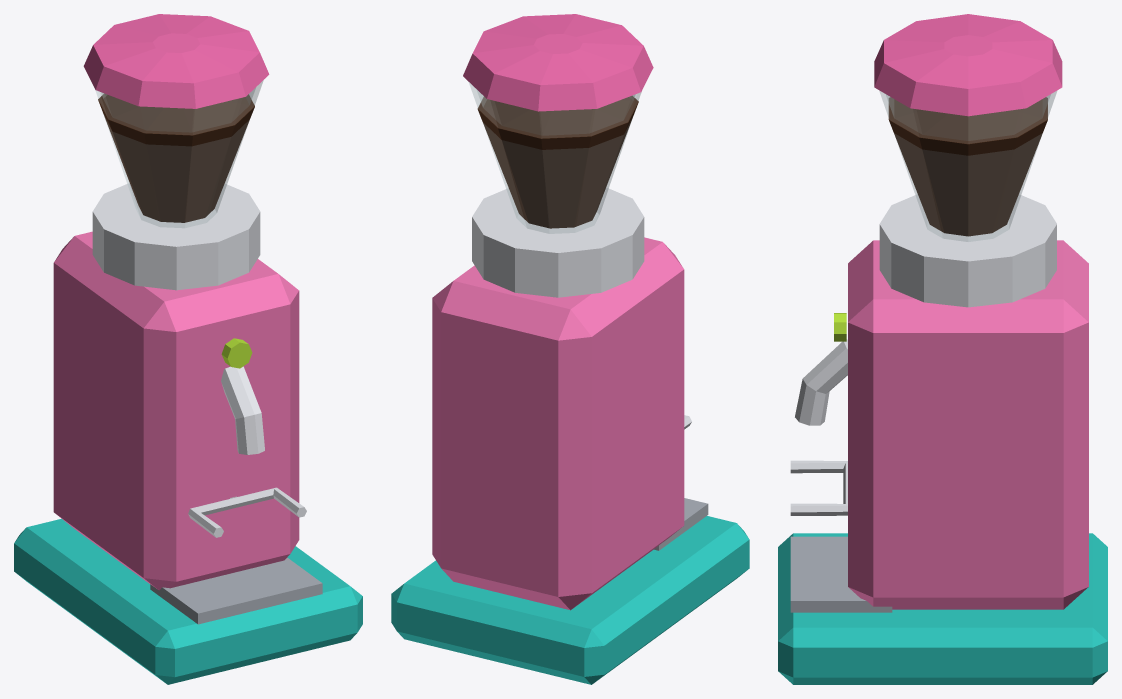
3 views of the same model, side by side, from view 1: azimuth 30°, elevation 25°; view 2: azimuth 150°, elevation 25°; view 3: azimuth 270°, elevation 25° (orthographic). The views are drawn at different scales.
Parts seen in each view (by area): view 1: body, base, hopper_lid, beans, grind_collar, hopper_glass, catch_tray, chute, fork, dose_button; view 2: body, base, hopper_lid, beans, grind_collar, hopper_glass, catch_tray; view 3: body, base, hopper_lid, beans, grind_collar, hopper_glass, catch_tray, chute, fork.
Boxes of the visible parts, x1,y1,x2,y2 form: body: [53, 231, 299, 590]; base: [14, 518, 362, 684]; hopper_lid: [83, 14, 269, 108]; beans: [98, 93, 254, 222]; grind_collar: [92, 183, 260, 290]; hopper_glass: [95, 80, 263, 227]; catch_tray: [150, 557, 322, 624]; chute: [221, 366, 264, 454]; fork: [188, 487, 306, 537]; dose_button: [221, 338, 252, 368]; body: [432, 237, 684, 610]; base: [391, 516, 749, 684]; hopper_lid: [463, 14, 653, 111]; beans: [477, 96, 638, 228]; grind_collar: [472, 187, 644, 297]; hopper_glass: [469, 82, 641, 233]; catch_tray: [654, 498, 708, 550]; body: [848, 240, 1088, 609]; base: [778, 533, 1107, 684]; hopper_lid: [874, 14, 1062, 116]; beans: [888, 97, 1047, 236]; grind_collar: [879, 194, 1056, 307]; hopper_glass: [879, 90, 1056, 241]; catch_tray: [790, 536, 892, 612]; chute: [795, 339, 847, 425]; fork: [790, 460, 847, 515].
Size of the model in its own units: 0.2 by 0.515 by 0.26.
